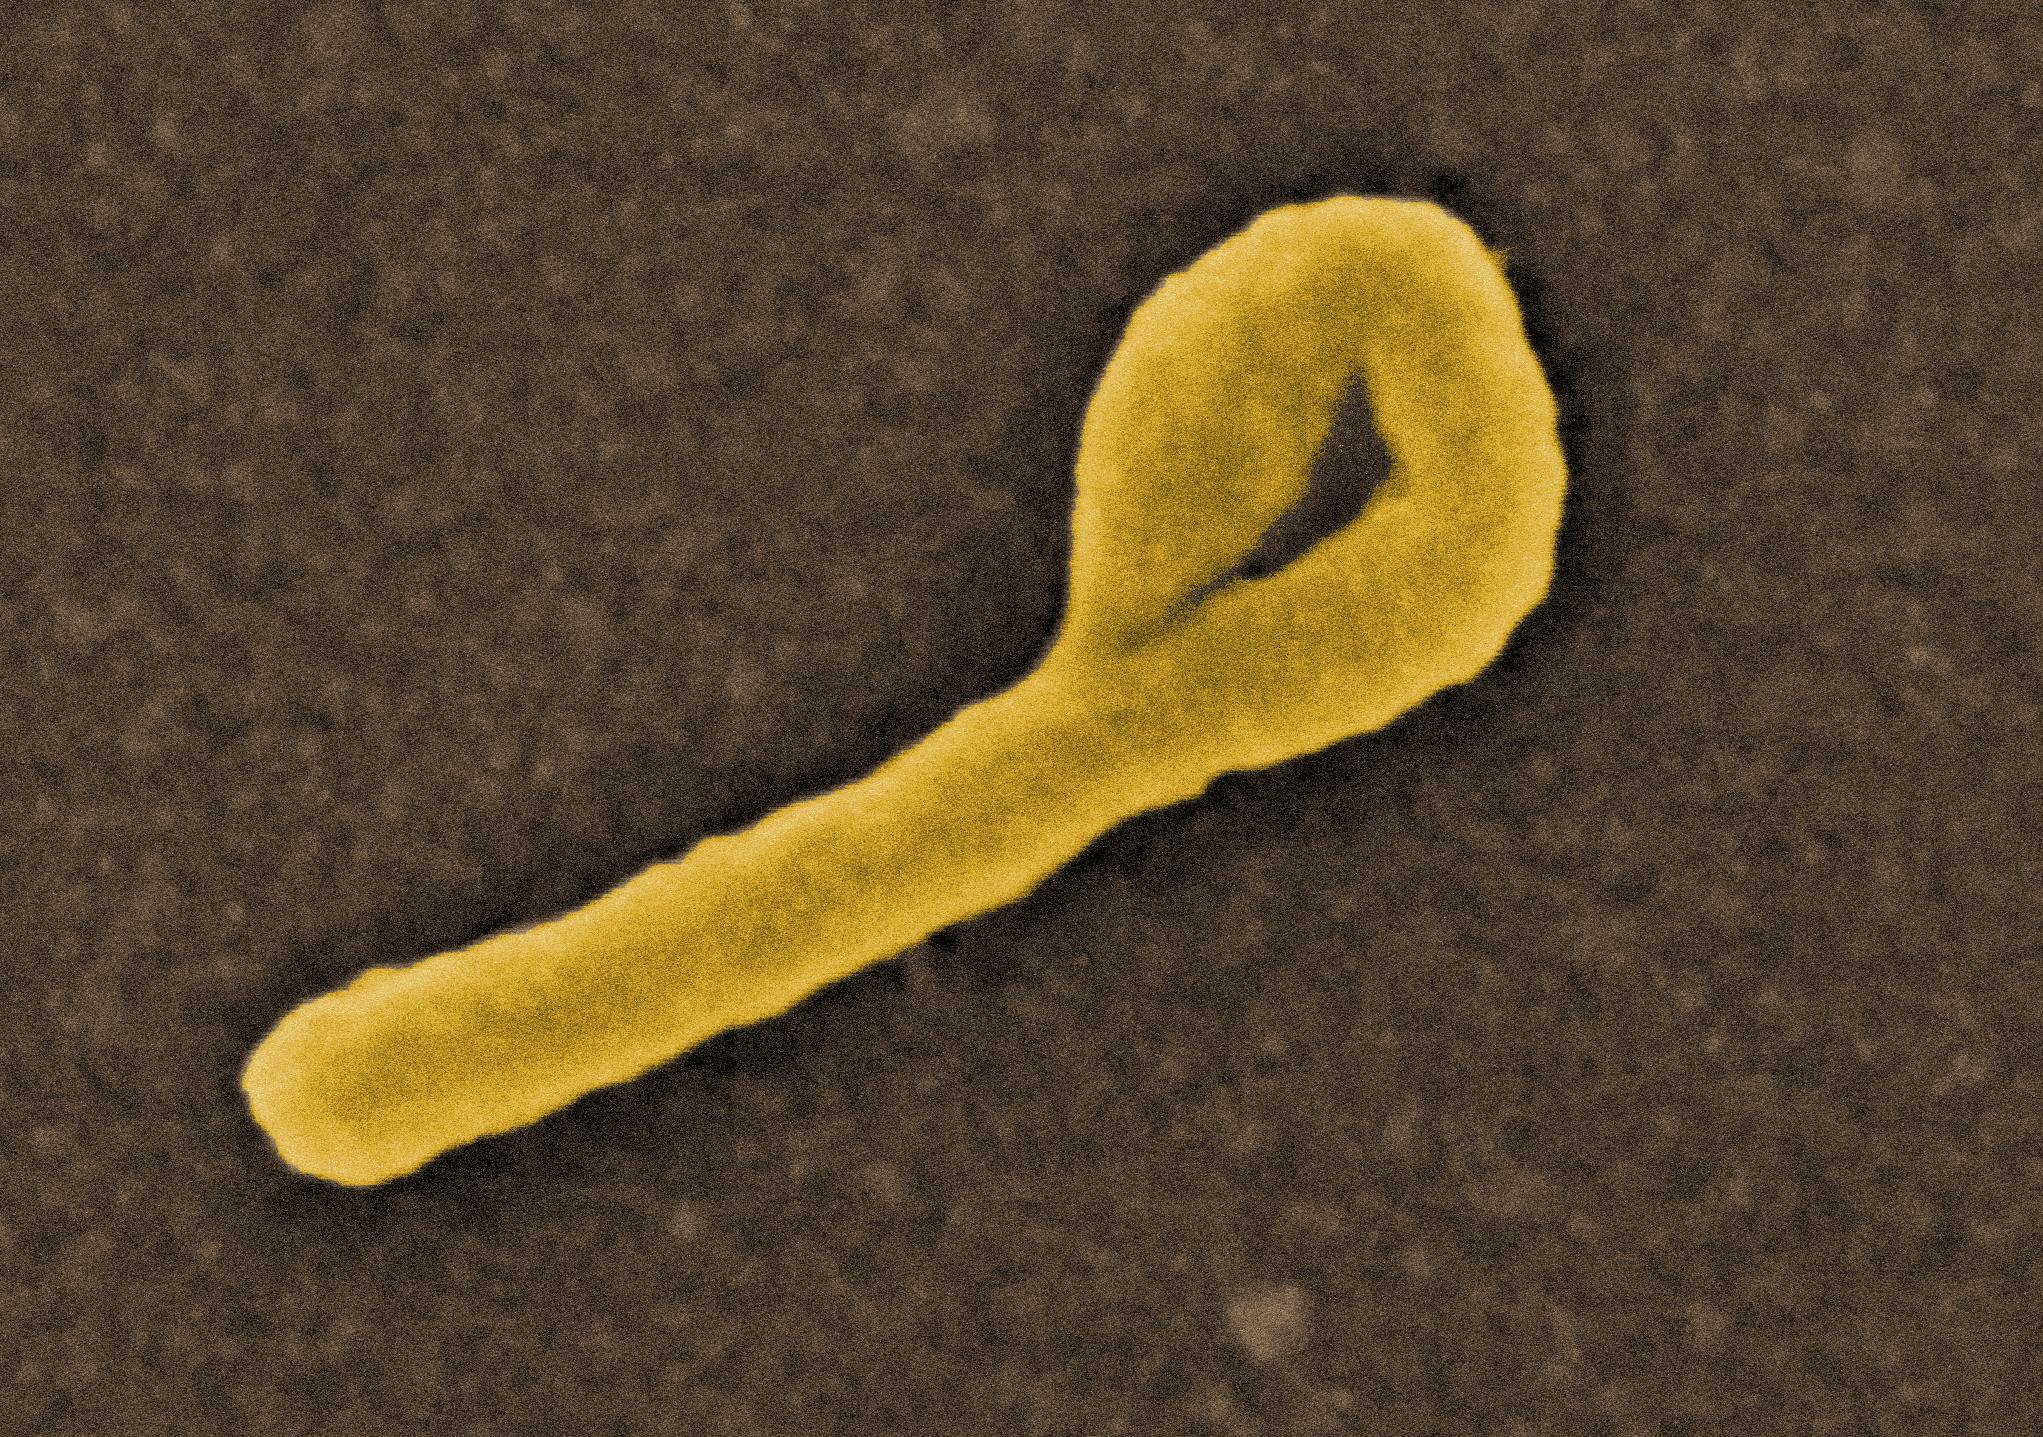EBOLA: (250, 173, 1633, 1197)
